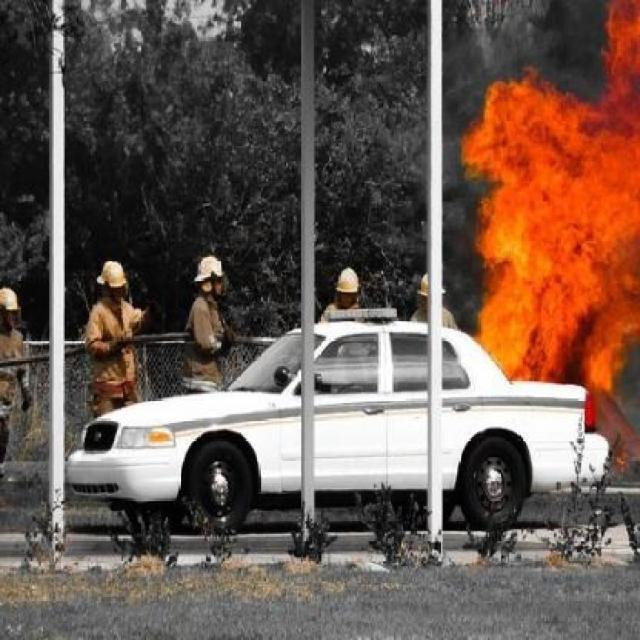Fire: (461, 0, 640, 492)
Smoke: (408, 0, 624, 106)
